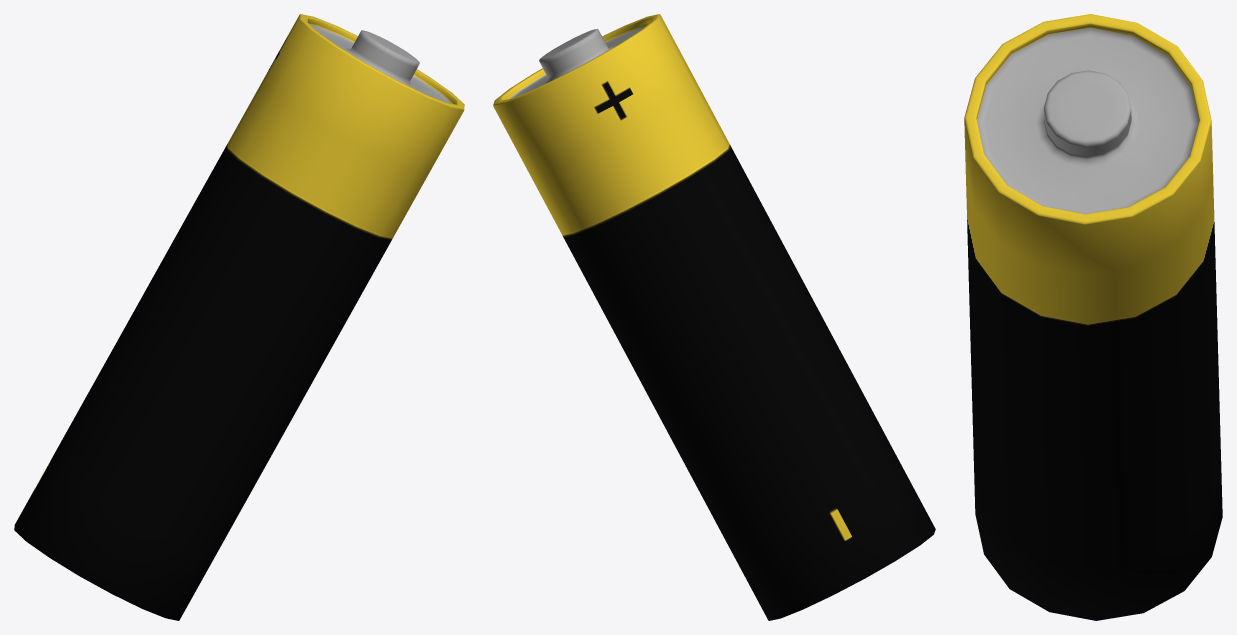
Rendered from battery_anim.fbx.
The picture shows the model from 3 angles, left to right: view 1: azimuth 30°, elevation 25°; view 2: azimuth 150°, elevation 25°; view 3: azimuth 270°, elevation 25°; orthographic projection. The views are drawn at different scales.
Parts seen in each view (by area): view 1: battery; view 2: battery; view 3: battery.
Part boxes in pixels (x1,y1,x2,y2): battery: (14,14,464,620); battery: (493,14,935,620); battery: (964,14,1222,620).
Bounding box in the file's own units: 1.14 × 1.4 × 0.4723.
